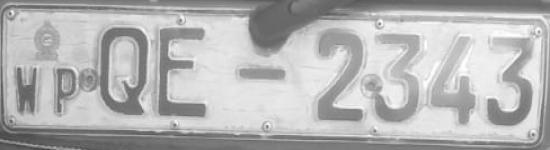-: (235, 62, 287, 84)
2: (315, 24, 374, 126)
3: (482, 31, 538, 132), (374, 31, 425, 125)
4: (426, 31, 482, 128)
E: (156, 23, 219, 122)
P: (50, 62, 84, 116)
Q: (92, 22, 155, 122)
W: (14, 61, 45, 118)
